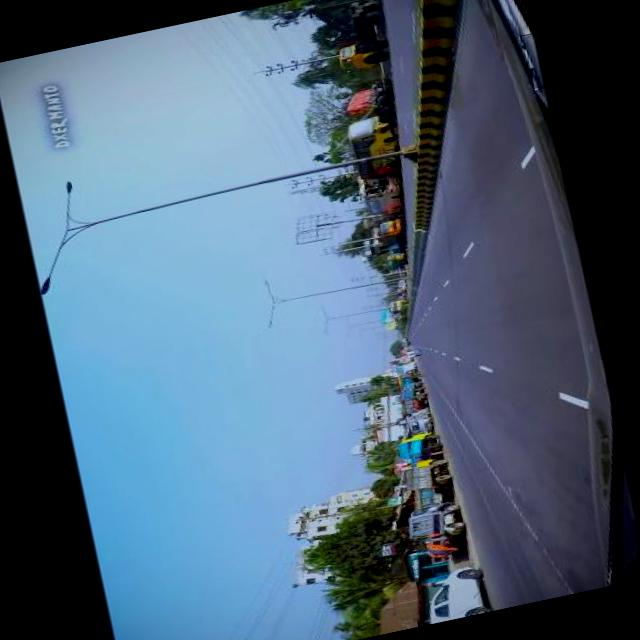bus: (344, 114, 399, 182), (396, 355, 410, 365)
car: (418, 562, 489, 624)
truck: (303, 0, 389, 78), (401, 499, 468, 561), (400, 456, 454, 510), (394, 430, 440, 466), (372, 218, 403, 248), (396, 386, 428, 415), (404, 412, 432, 436), (384, 253, 404, 270), (388, 300, 406, 316), (396, 279, 404, 290)
